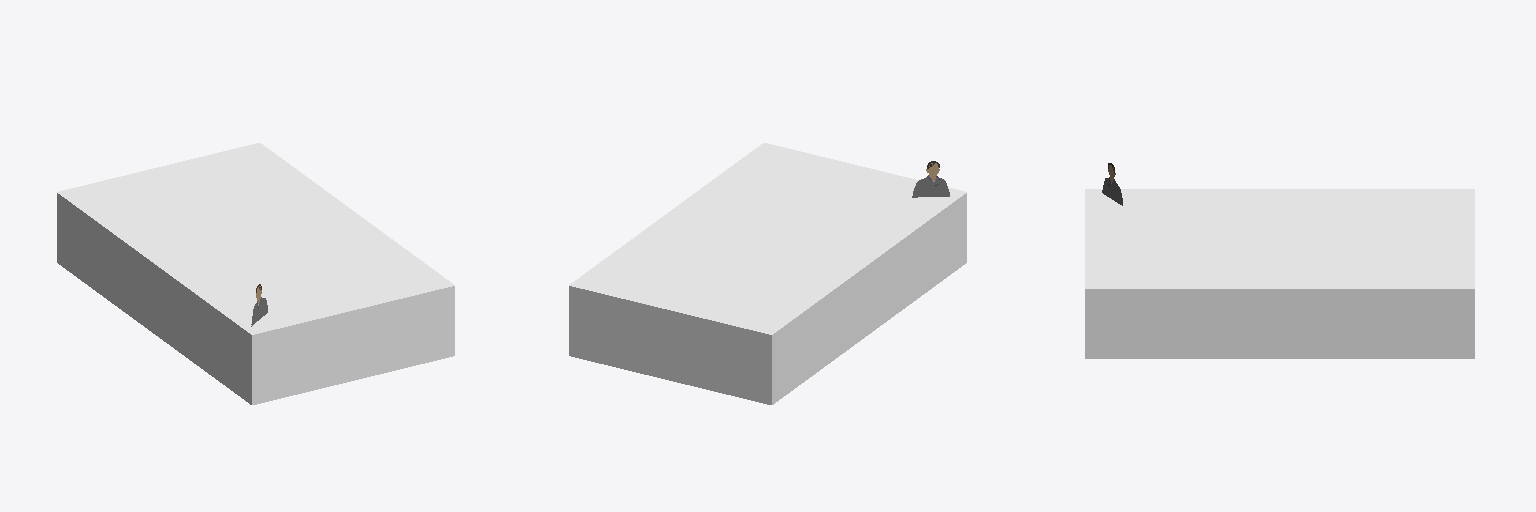
File: block.obj
3 renders of one model, left to right at view 1: azimuth 30°, elevation 25°; view 2: azimuth 150°, elevation 25°; view 3: azimuth 270°, elevation 25°, orthographic.
Parts seen in each view (by area): view 1: Mesh2 Model; view 2: Mesh2 Model, Mesh1 Derrick1 Model; view 3: Mesh2 Model.
Part boxes in pixels (x1,y1,x2,y2): Mesh2 Model: (57, 143, 454, 404); Mesh2 Model: (569, 143, 966, 404); Mesh1 Derrick1 Model: (912, 161, 949, 197); Mesh2 Model: (1085, 189, 1474, 358).
Bounding box in the file's own units: 3.51 × 1.75 × 5.84.